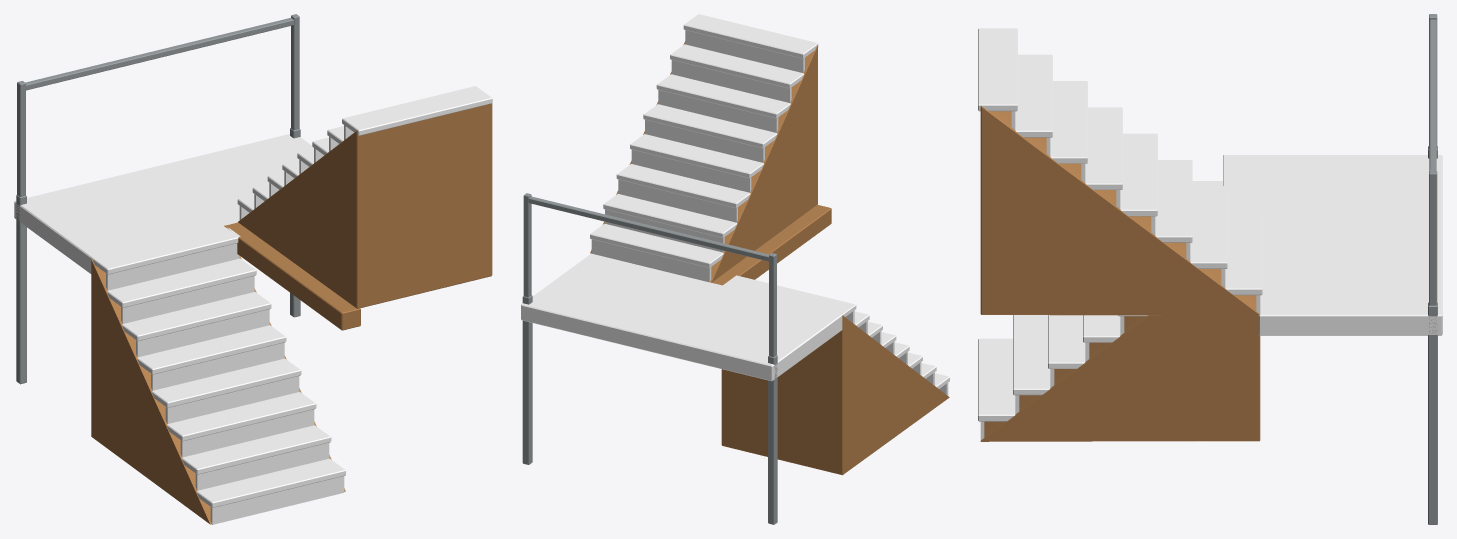
The model's file is stair-u-return.glb.
3 views of the same model, side by side, from view 1: azimuth 30°, elevation 25°; view 2: azimuth 150°, elevation 25°; view 3: azimuth 270°, elevation 25° (orthographic). The views are drawn at different scales.
Parts seen in each view (by area): view 1: stair-u-return.tint, stair-u-return.wood, stair-u-return.metal; view 2: stair-u-return.tint, stair-u-return.wood, stair-u-return.metal; view 3: stair-u-return.tint, stair-u-return.wood, stair-u-return.metal.
Part boxes in pixels (x1,y1,x2,y2): stair-u-return.tint: (14,86,492,524); stair-u-return.wood: (91,103,492,524); stair-u-return.metal: (16,14,300,384); stair-u-return.tint: (521,14,949,395); stair-u-return.wood: (590,41,949,475); stair-u-return.metal: (522,193,777,524); stair-u-return.tint: (978,28,1442,440); stair-u-return.wood: (980,105,1260,441); stair-u-return.metal: (1428,14,1437,524).
Size of the model in its own units: 2.3 by 2.8 by 2.8.
